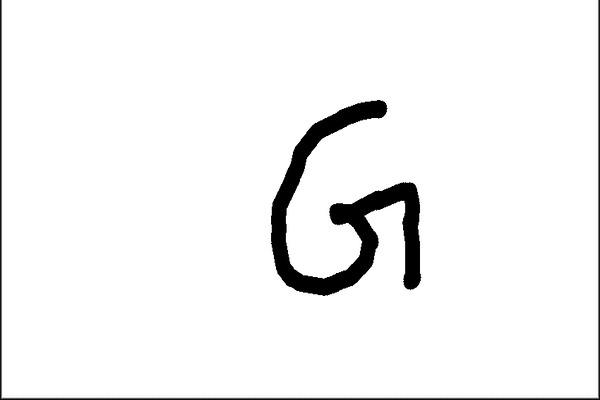G: (263, 96, 426, 299)
